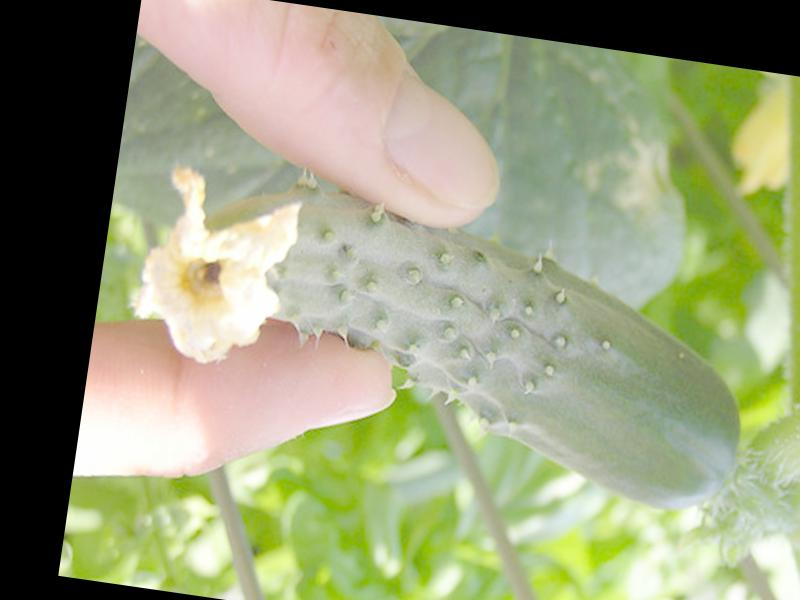Cucumber: (119, 163, 769, 515)
